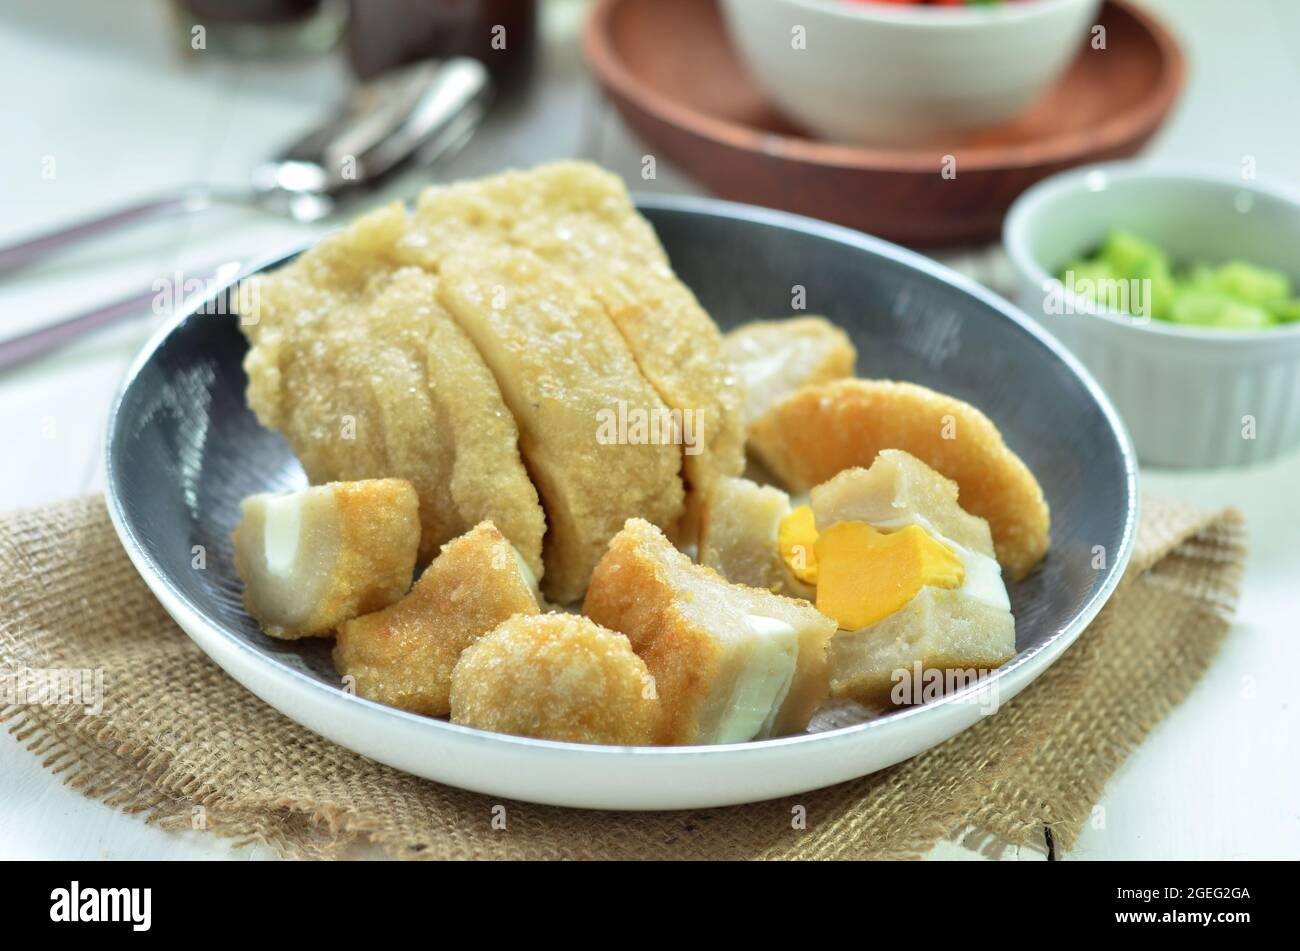pempek: (228, 159, 1054, 746)
